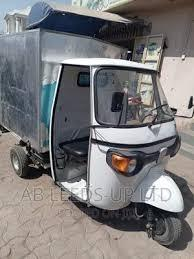keke: (4, 59, 192, 256)
